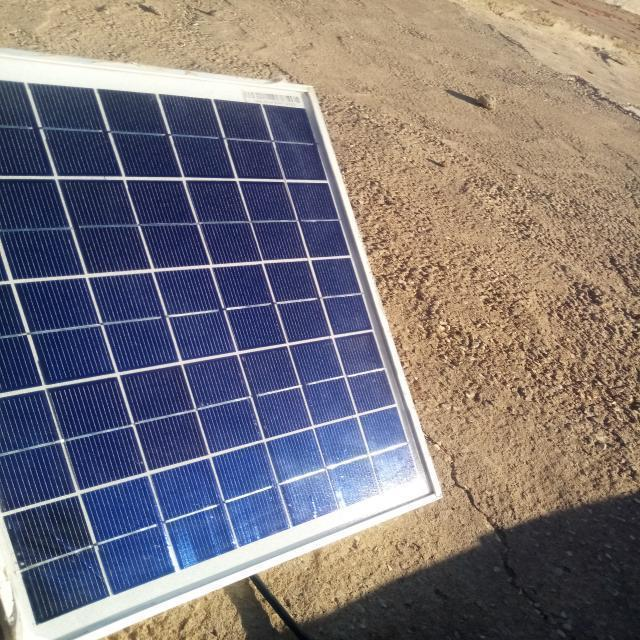Normal Solar Panel: (4, 54, 441, 637)
